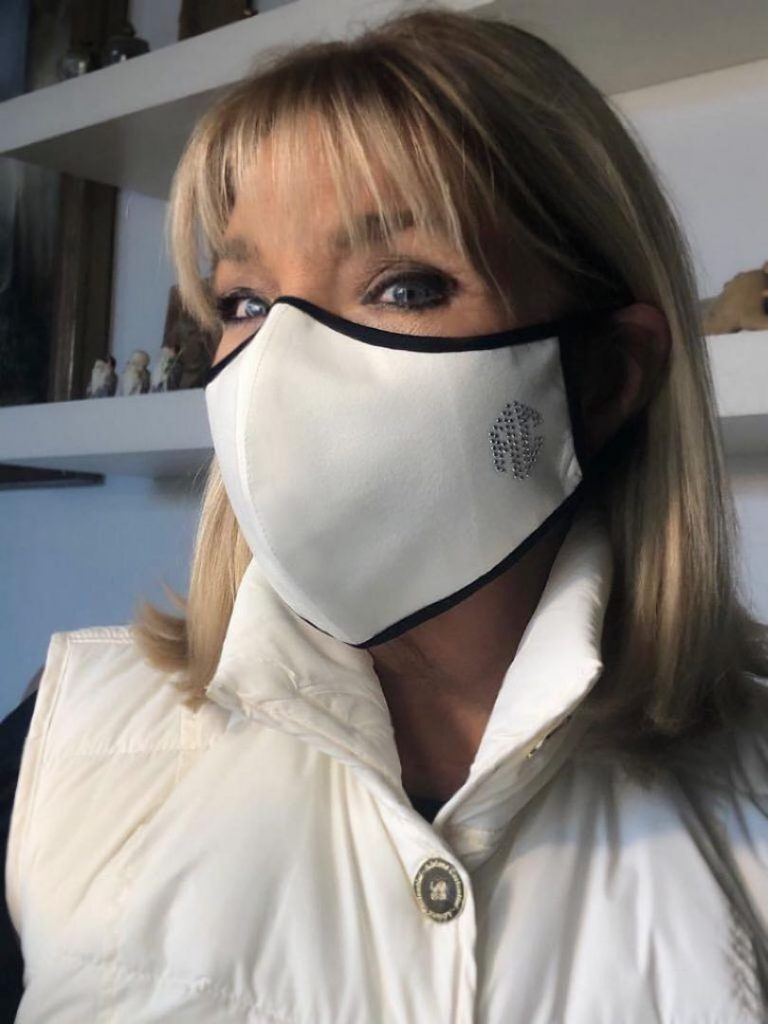barbijo: (189, 284, 622, 652)
